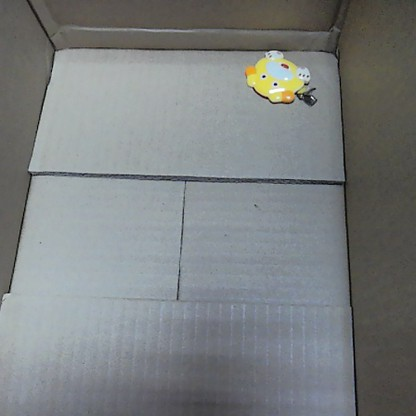dogclip: (243, 45, 321, 111)
